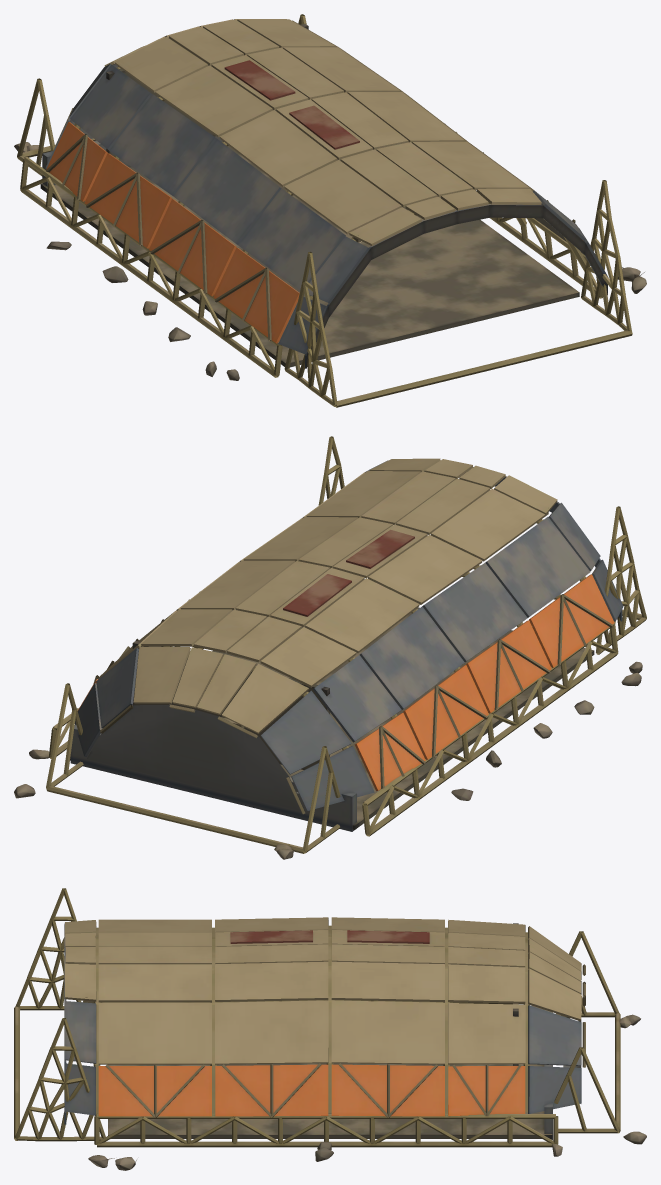
The model's file is outpost_shelter.glb.
3 renders of one model, top to bottom at view 1: azimuth 30°, elevation 25°; view 2: azimuth 150°, elevation 25°; view 3: azimuth 270°, elevation 25°, orthographic. The views are drawn at different scales.
Parts seen in each view (by area): view 1: Shelter; view 2: Shelter; view 3: Shelter.
Part boxes in pixels (x1,y1,x2,y2): Shelter: (14, 14, 646, 407); Shelter: (14, 436, 646, 859); Shelter: (14, 888, 646, 1170).
Bounding box in the file's own units: 12.16 × 4.12 × 17.38.
4 materials, 1 textured.
